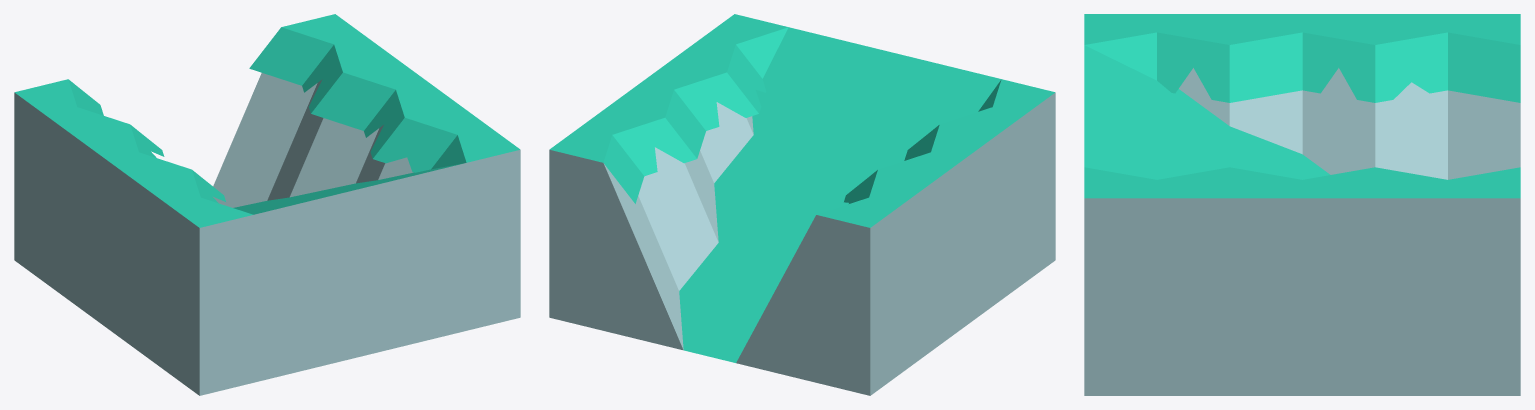
File: cliff_blockSlopeHalfWalls_stone.glb
3 views of the same model, side by side, from view 1: azimuth 30°, elevation 25°; view 2: azimuth 150°, elevation 25°; view 3: azimuth 270°, elevation 25° (orthographic). The views are drawn at different scales.
Visible parts, largest first — view 1: cliff_blockSlopeHalfWalls_stone; view 2: cliff_blockSlopeHalfWalls_stone; view 3: cliff_blockSlopeHalfWalls_stone.
Boxes of the visible parts, box(x1,y1,x2,y2) form: cliff_blockSlopeHalfWalls_stone: box(14, 14, 520, 395); cliff_blockSlopeHalfWalls_stone: box(549, 14, 1055, 395); cliff_blockSlopeHalfWalls_stone: box(1084, 14, 1520, 395).
Size of the model in its own units: 1 by 0.5 by 1.
